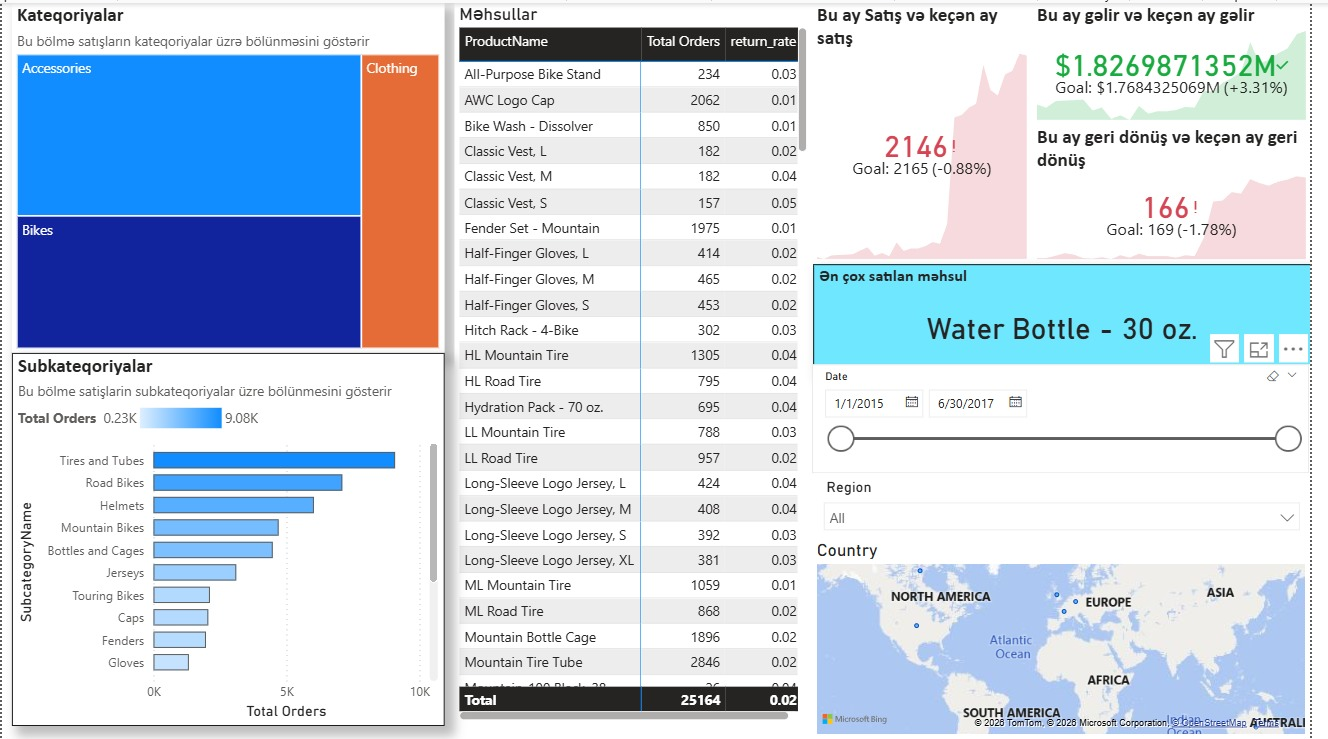

This screenshot's page, from the dashboard's own definition file:
{"tool":"powerbi","page":{"name":"Main","canvas":[1280,720],"ordinal":0},"visuals":[{"type":"treemap","title":"Kateqoriyalar","fields":{"Group":["Kateqoriya.CategoryName"],"Values":["Sales.Total Orders"]},"box":[9.8,0,423.1,342.4],"z":0},{"type":"pivotTable","title":"Məhsullar","fields":{"Rows":["Mehsullar.ProductName"],"Values":["Sales.Total Orders","Geridonusler.return_rate"]},"box":[442.7,0,349.7,706.8],"z":1000},{"type":"kpi","title":"Bu ay Satış və keçən ay satış","fields":{"Indicator":["Sales.Total Orders"],"TrendLine":["Teqvim.Start of Month"],"Goal":["Sales.Prev _Month_Orders"]},"box":[791.8,0,215.3,255.5],"z":2000},{"type":"kpi","title":"Bu ay gəlir və keçən ay gəlir","fields":{"Indicator":["Geridonusler.Total Revenue"],"TrendLine":["Teqvim.Start of Month"],"Goal":["Geridonusler.Prev Month Revenue"]},"box":[1007.1,0,273.2,119.6],"z":3000},{"type":"kpi","title":"Bu ay geri dönüş və keçən ay geri dönüş","fields":{"Indicator":["Geridonusler.Total Returns"],"TrendLine":["Teqvim.Start of Month"],"Goal":["Geridonusler.Prev Month Returns"]},"box":[1007.1,119.6,273.2,136],"z":4000},{"type":"card","title":"Ən çox satılan məhsul","fields":{"Values":["Min(Mehsullar.ProductName)"]},"box":[793.1,255.5,487.2,104.5],"z":5000},{"type":"slicer","fields":{"Values":["Teqvim.Date"]},"box":[791.8,353.7,487.2,105.7],"z":6000},{"type":"slicer","fields":{"Values":["Regionlar.Region"]},"box":[793.1,459.5,485.9,110.8],"z":7000},{"type":"clusteredBarChart","title":"Subkateqoriyalar","fields":{"Y":["Sales.Total Orders"],"Category":["Subkateqoriya.SubcategoryName"]},"box":[10,342,423,365],"z":8000},{"type":"map","fields":{"Category":["Regionlar.Country"]},"box":[792.4,524.6,486.7,195.7],"z":9000}]}

Visuals, with their boxes in screenshot pixels (x1, y1, x2, y2), scaled from the page's 1280x720 canvas onto the 1328x739 screenshot:
"Kateqoriyalar" treemap: region(10, 0, 449, 351)
"Məhsullar" pivotTable: region(459, 0, 822, 725)
"Bu ay Satış və keçən ay satış" kpi: region(821, 0, 1045, 262)
"Bu ay gəlir və keçən ay gəlir" kpi: region(1045, 0, 1327, 123)
"Bu ay geri dönüş və keçən ay geri dönüş" kpi: region(1045, 123, 1327, 262)
"Ən çox satılan məhsul" card: region(823, 262, 1327, 369)
slicer - Teqvim.Date: region(821, 363, 1327, 472)
slicer - Regionlar.Region: region(823, 472, 1327, 585)
"Subkateqoriyalar" clusteredBarChart: region(10, 351, 449, 726)
map - Regionlar.Country: region(822, 538, 1327, 738)
